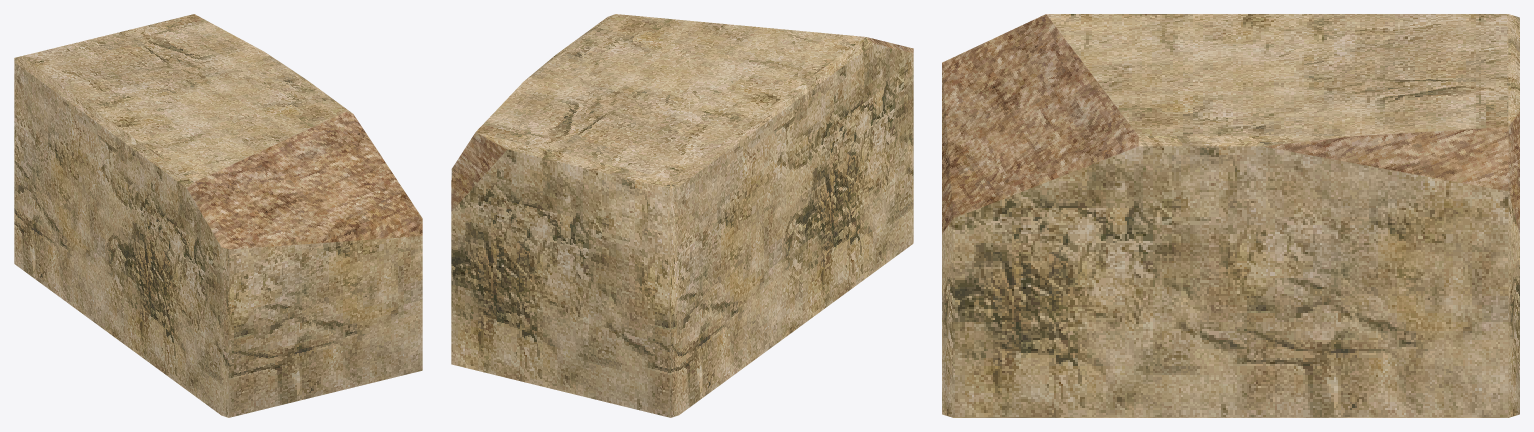
The model's file is stage-ruin-p2-483.glb.
The picture shows the model from 3 angles, left to right: view 1: azimuth 30°, elevation 25°; view 2: azimuth 150°, elevation 25°; view 3: azimuth 270°, elevation 25°; orthographic projection. The views are drawn at different scales.
Bounding box in the file's own units: 4.25 × 4.25 × 7.9.
Materials: 2 (2 with a texture image).
